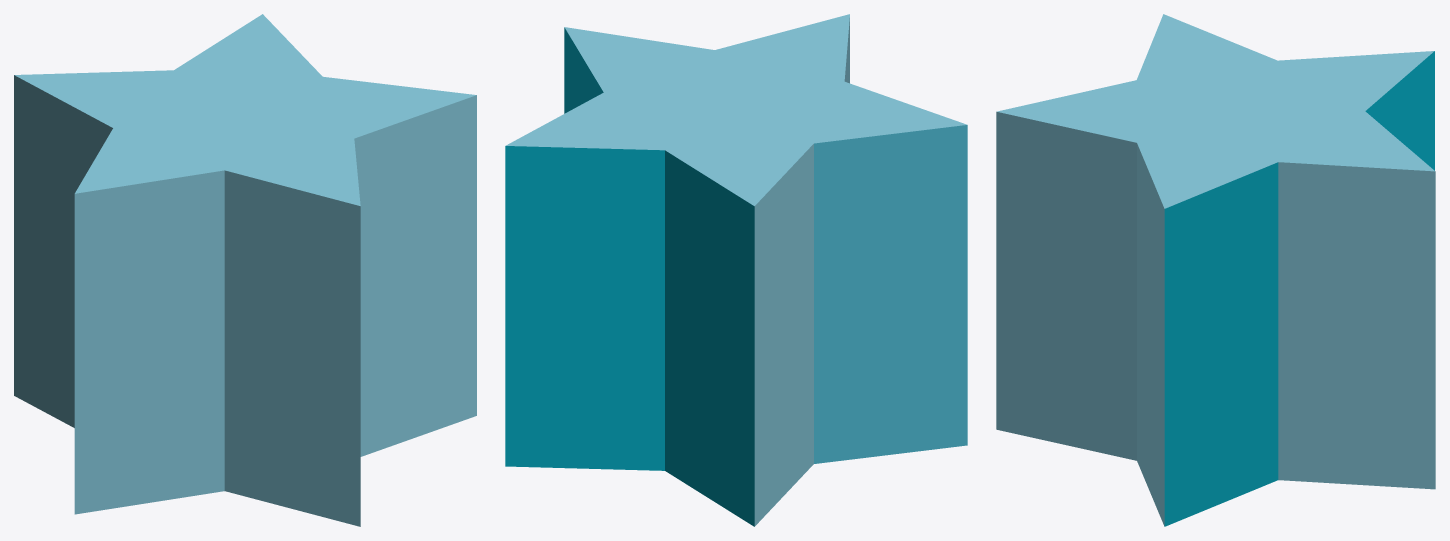
The model's file is Star.fbx.
3 renders of one model, left to right at view 1: azimuth 30°, elevation 25°; view 2: azimuth 150°, elevation 25°; view 3: azimuth 270°, elevation 25°, orthographic.
Parts seen in each view (by area): view 1: Star; view 2: Star; view 3: Star.
Boxes of the visible parts, <box> form: Star: <box>14,14,476,526</box>; Star: <box>505,14,967,526</box>; Star: <box>996,14,1435,526</box>.
Bounding box in the file's own units: 1.31 × 1 × 1.25.
